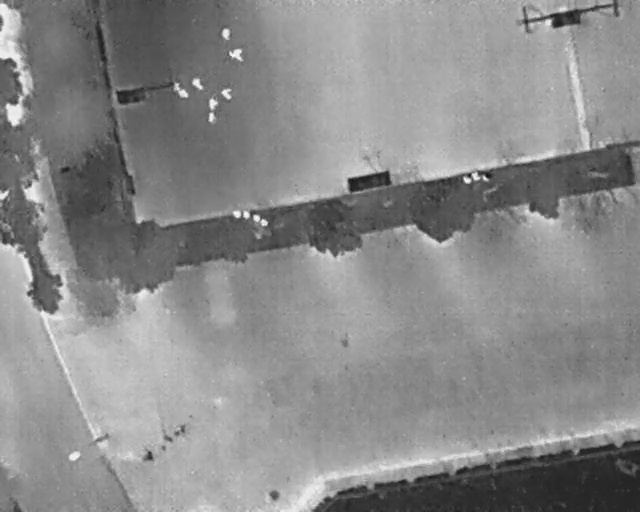Person: (229, 49, 244, 62), (220, 88, 233, 100), (191, 77, 203, 89), (221, 27, 231, 40), (209, 97, 218, 110), (208, 112, 216, 124), (179, 89, 189, 98), (173, 81, 180, 92)
